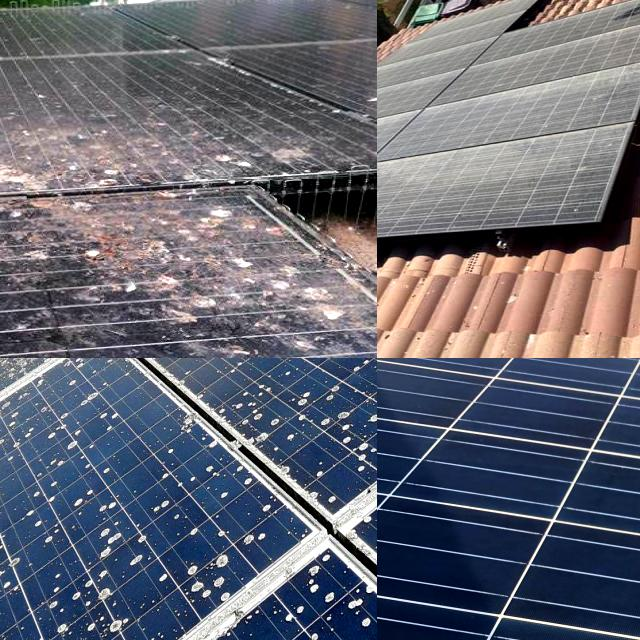bird: (176, 232, 342, 336), (0, 99, 188, 189), (0, 188, 118, 305), (203, 104, 343, 188), (0, 142, 58, 270), (306, 552, 377, 640), (56, 559, 130, 628), (85, 454, 144, 532), (0, 311, 86, 358), (169, 554, 249, 602), (293, 386, 357, 440), (0, 260, 35, 358), (163, 434, 223, 488), (229, 377, 271, 437), (85, 385, 128, 440), (287, 358, 338, 389), (0, 545, 25, 608), (47, 414, 82, 446), (353, 443, 377, 473), (0, 358, 32, 378)
crack: (377, 358, 640, 640)
dust: (377, 164, 592, 216), (418, 86, 613, 138), (377, 151, 461, 241), (497, 19, 640, 69), (377, 70, 415, 155), (418, 29, 484, 60)
